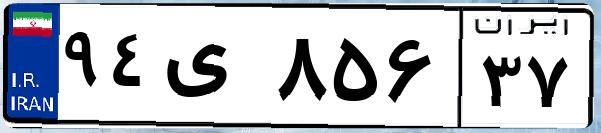3: (475, 38, 525, 113)
4: (110, 28, 158, 98)
5: (330, 28, 385, 110)
6: (385, 28, 445, 110)
7: (525, 38, 570, 115)
8: (270, 28, 330, 110)
9: (57, 26, 110, 100)
ی: (158, 20, 270, 120)
